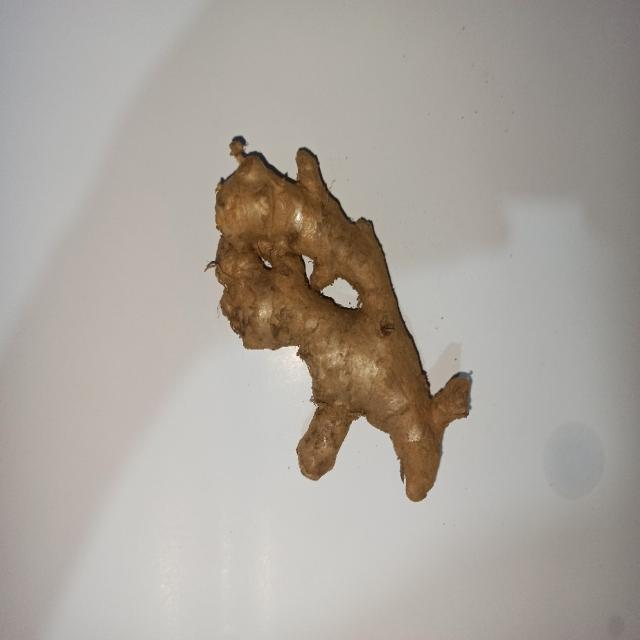ginger: (205, 133, 470, 503)
